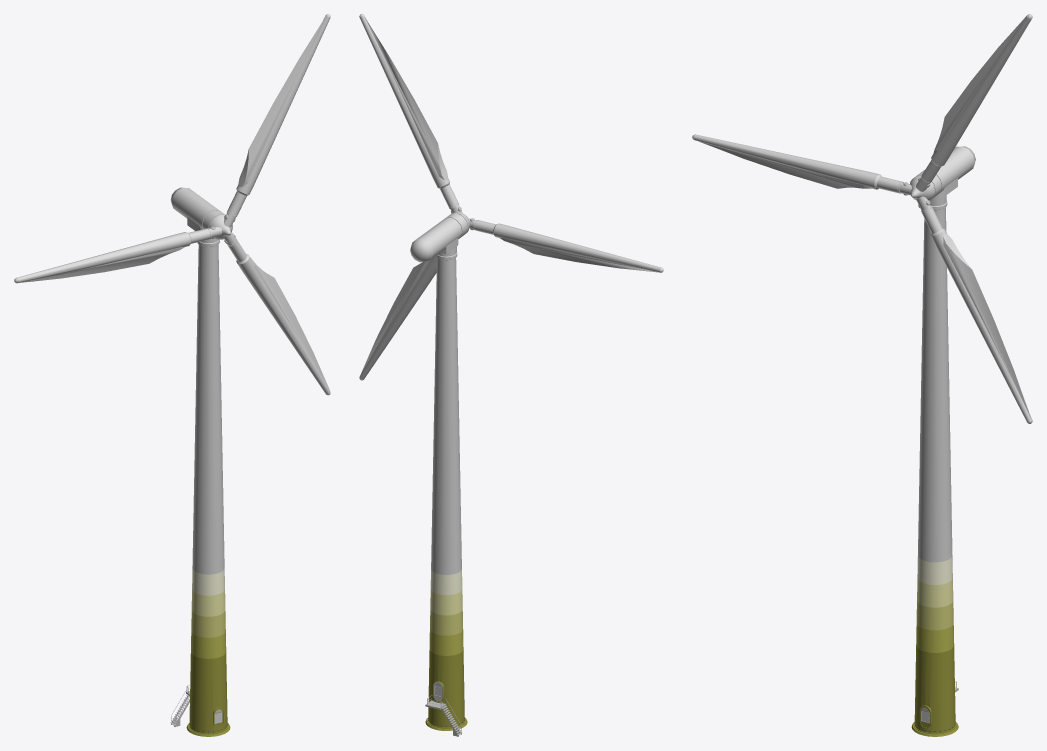
The model's file is windmill-1.dae.
3 views of the same model, side by side, from view 1: azimuth 30°, elevation 25°; view 2: azimuth 150°, elevation 25°; view 3: azimuth 330°, elevation 25° (orthographic). The views are drawn at different scales.
Parts seen in each view (by area): view 1: group_3 (×6), group_1 (×3), group_2; view 2: group_3 (×6), group_1 (×3), group_2; view 3: group_3 (×6), group_1 (×3), group_2.
Part boxes in pixels (<box>): group_3 (×6): <box>189,244,227,733</box>; group_1 (×3): <box>16,16,330,394</box>; group_2: <box>170,187,224,230</box>; group_3 (×6): <box>428,258,464,727</box>; group_1 (×3): <box>359,15,660,379</box>; group_2: <box>410,213,467,262</box>; group_3 (×6): <box>914,207,955,733</box>; group_1 (×3): <box>694,16,1032,422</box>; group_2: <box>917,146,975,198</box>.
Size of the model in its own units: 148 by 42.34 by 314.
